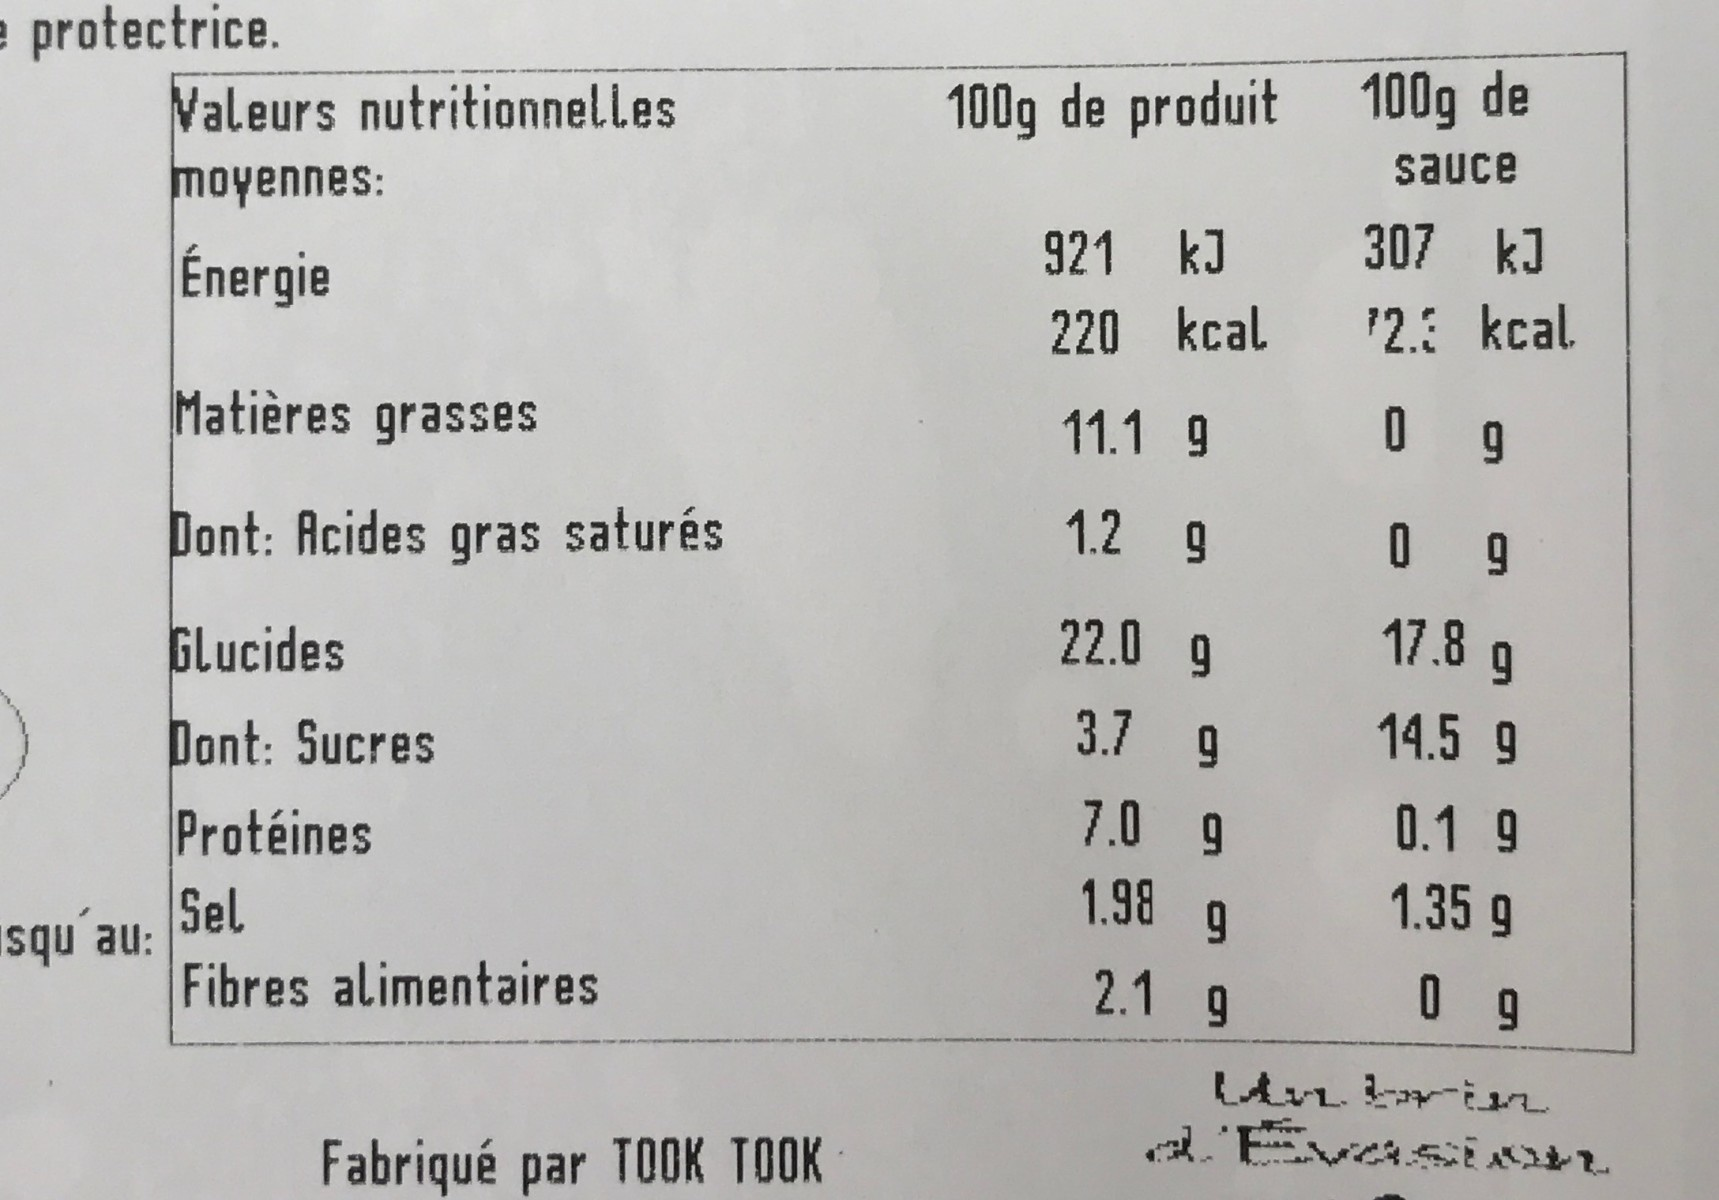column: (174, 81, 718, 1011), (950, 77, 1283, 1028), (1355, 71, 1581, 1038)
table: (166, 48, 1648, 1062)
